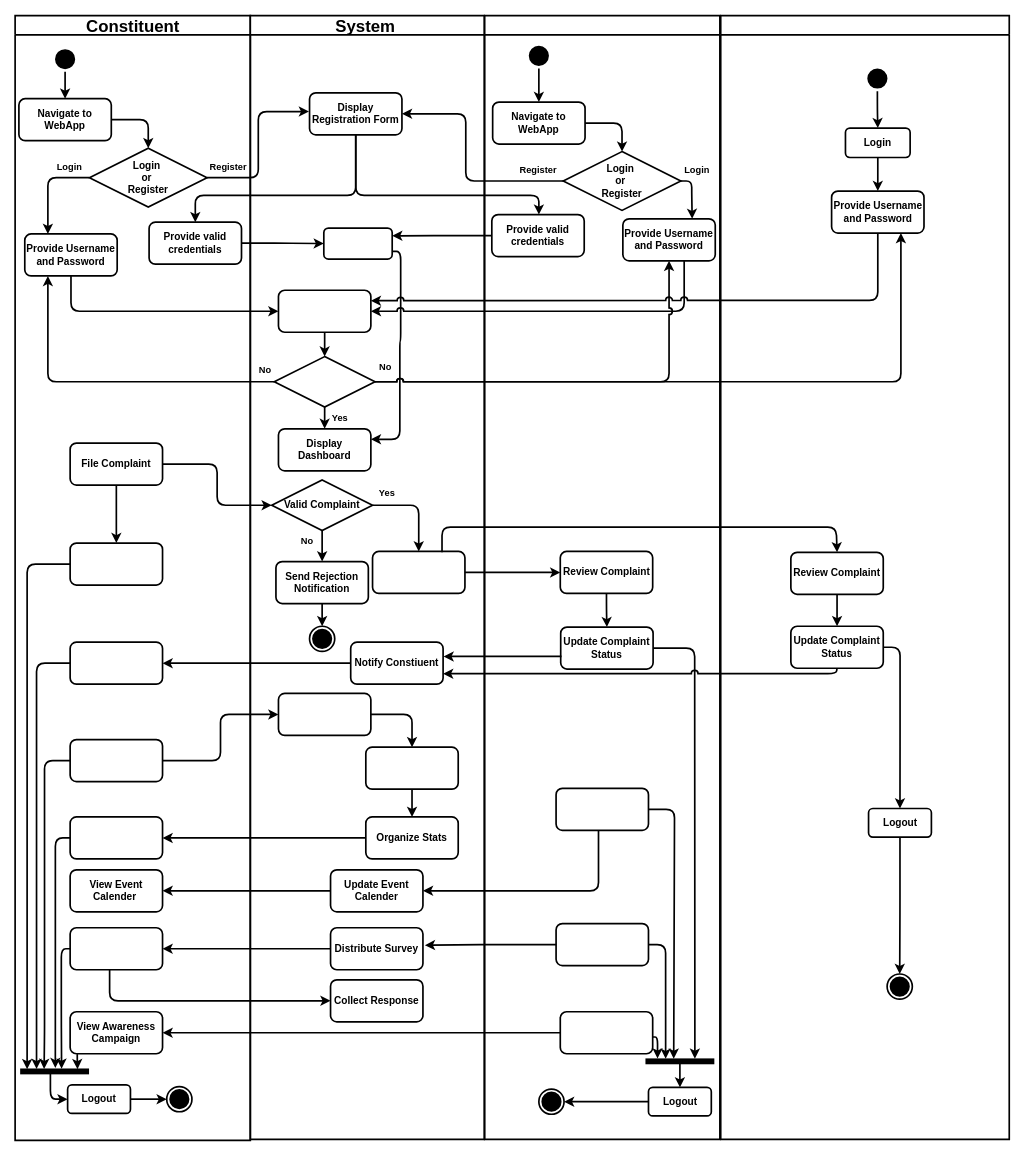
Some shapes in this 1025 by 1155 pixel diagram are drawn without their labels. The shapes that lost their labels are listed below. From the top down, each one's box as (x1, y1, x2, y2) in pixels, then its label:
(323, 227, 393, 260): Save Data
(277, 289, 371, 333): Validates Information
(273, 355, 375, 407): Valid Input?
(69, 542, 163, 585): View Complaint
(371, 550, 465, 594): Forward Complaint
(483, 14, 720, 1140): Representative
(719, 14, 1010, 1140): Department Complaint Handler
(69, 641, 163, 685): Privde Feedback
(277, 692, 371, 736): Collect Stats
(69, 738, 163, 782): View Statistics
(365, 746, 459, 790): Compute Stats
(555, 787, 649, 831): Post Event
(69, 816, 163, 859): Display Statistics
(69, 927, 163, 970): Participate in Survey
(555, 922, 649, 966): Create Survey
(559, 1011, 653, 1054): Post Awareness Campaign
